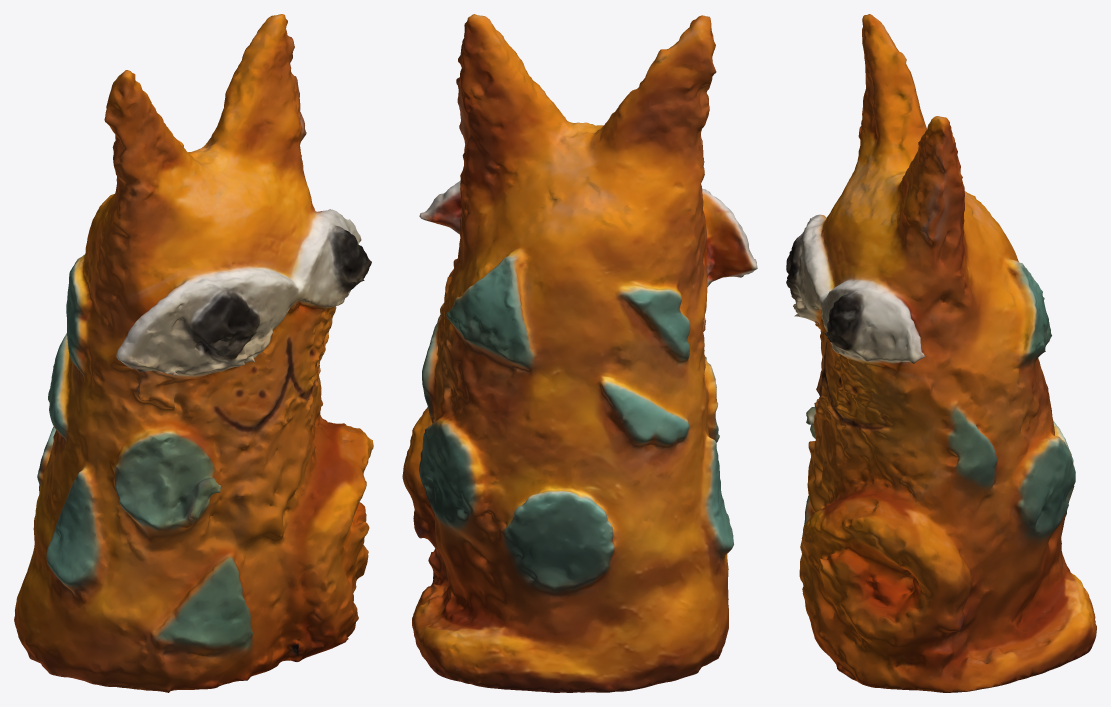
File: Cat.fbx
3 views of the same model, side by side, from view 1: azimuth 30°, elevation 25°; view 2: azimuth 150°, elevation 25°; view 3: azimuth 270°, elevation 25° (orthographic). The views are drawn at different scales.
Parts seen in each view (by area): view 1: Mesh_0_Part_0.001; view 2: Mesh_0_Part_0.001; view 3: Mesh_0_Part_0.001.
Boxes of the visible parts, <box> form: Mesh_0_Part_0.001: <box>14,14,373,692</box>; Mesh_0_Part_0.001: <box>402,14,757,692</box>; Mesh_0_Part_0.001: <box>786,14,1096,692</box>.
Bounding box in the file's own units: 61.34 × 114 × 56.23.
